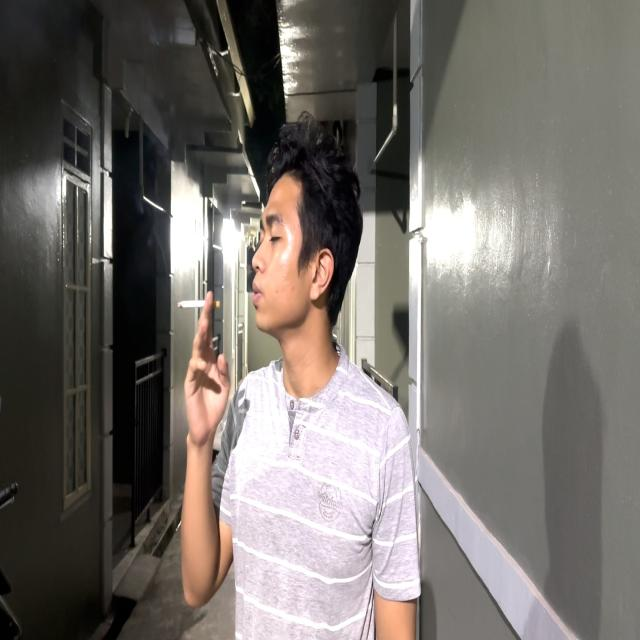cigarette: (170, 293, 226, 322)
smoking: (171, 120, 371, 612)
